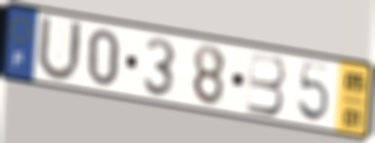0: (85, 28, 123, 89)
3: (141, 37, 179, 99)
5: (294, 59, 332, 125)
8: (192, 43, 228, 108)
B: (245, 50, 288, 118)
U: (35, 12, 85, 85)
